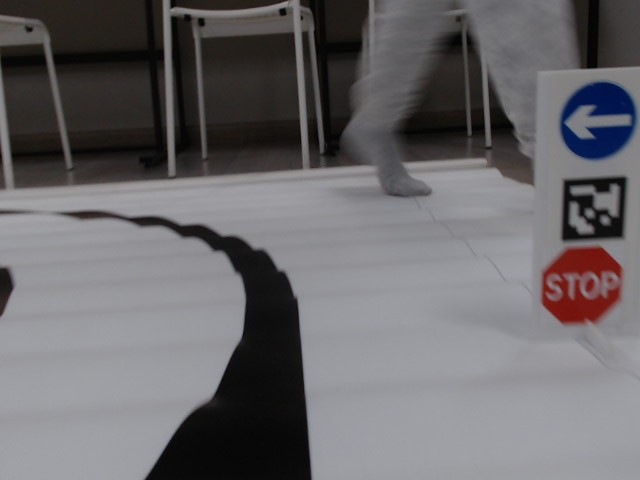Stop: (539, 245, 624, 327)
